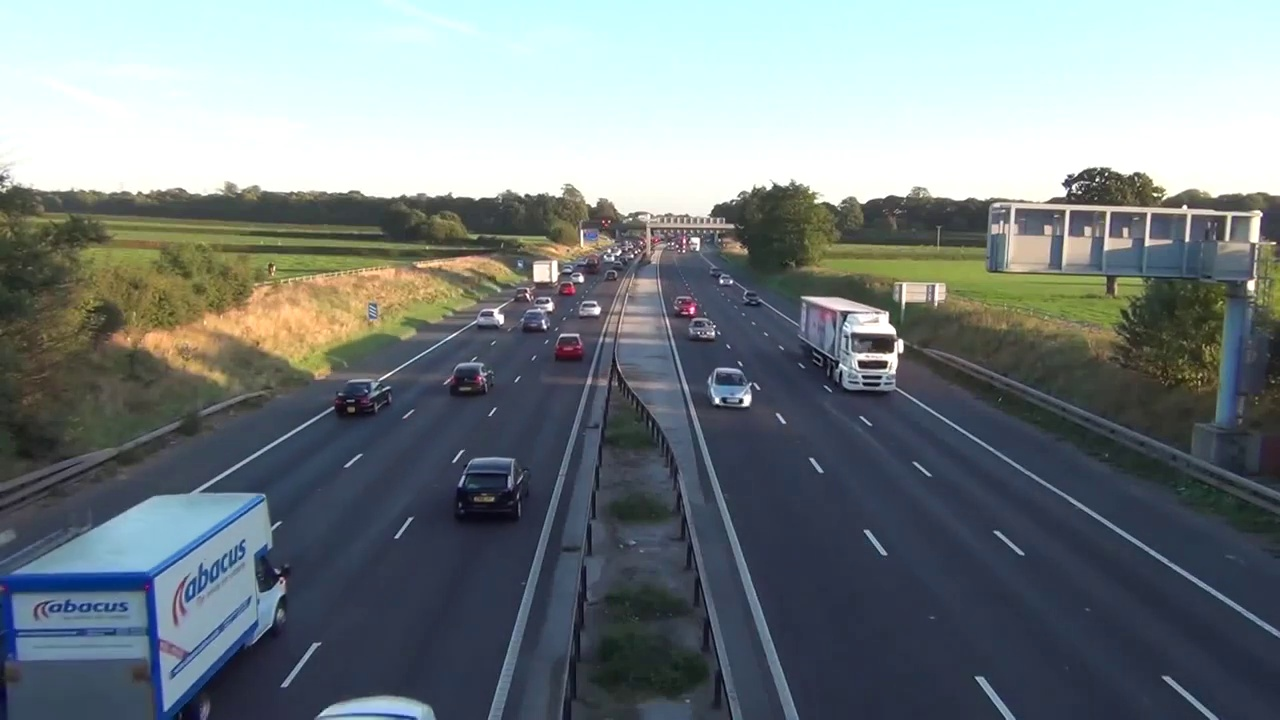bus: (453, 456, 531, 520), (335, 378, 393, 414), (705, 366, 753, 409), (450, 362, 495, 397), (555, 332, 584, 359), (521, 308, 550, 331), (689, 318, 716, 340), (672, 295, 699, 317), (475, 308, 504, 327), (577, 299, 602, 318), (742, 289, 760, 307), (559, 280, 578, 295), (535, 297, 554, 311), (516, 288, 533, 302), (719, 274, 733, 286)
car: (0, 493, 288, 720), (799, 295, 904, 393), (532, 260, 560, 288)
